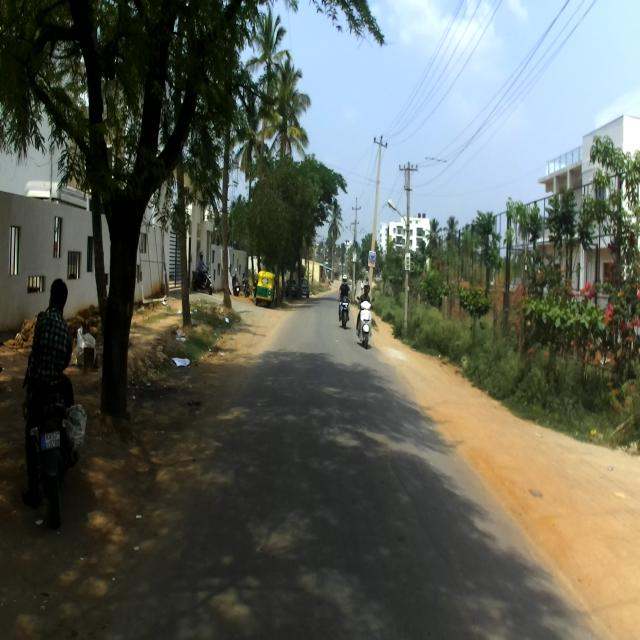motorcycle ahead at: (23, 384, 86, 524)
tree ahead at: (83, 82, 158, 415)
